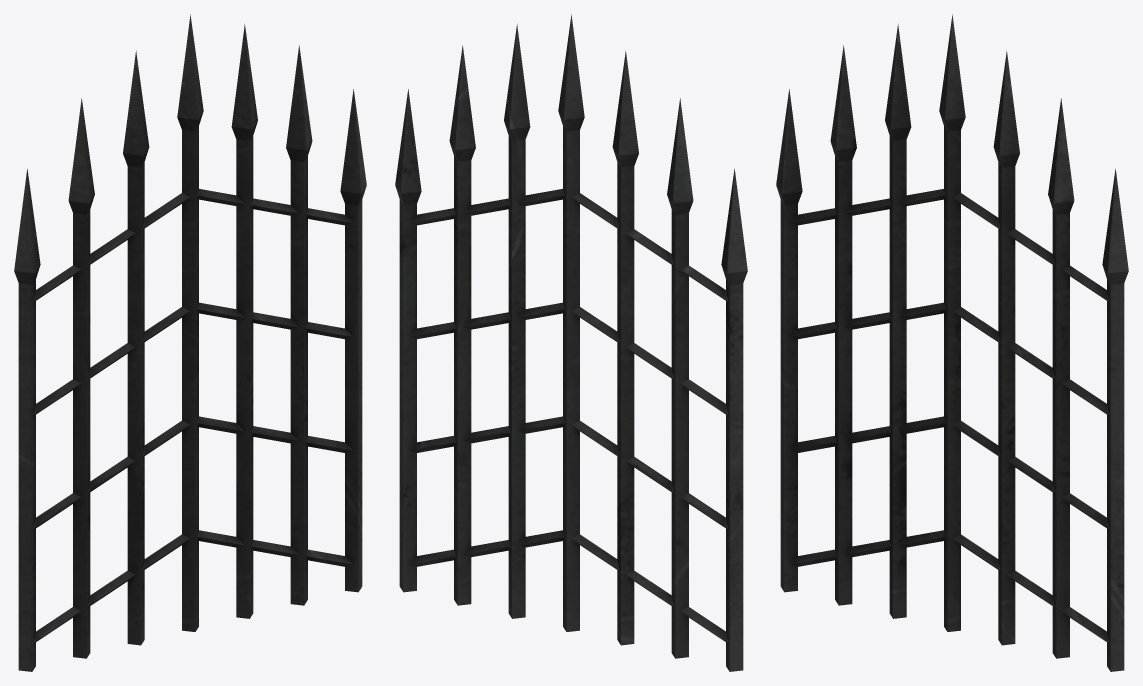
The model's file is Dungeon_Door.fbx.
The picture shows the model from 3 angles, left to right: view 1: azimuth 30°, elevation 25°; view 2: azimuth 150°, elevation 25°; view 3: azimuth 330°, elevation 25°; orthographic projection.
Parts seen in each view (by area): view 1: door; view 2: door; view 3: door.
Boxes of the visible parts, x1=… form: door: x1=14, y1=14, x2=366, y2=671; door: x1=395, y1=14, x2=747, y2=671; door: x1=776, y1=14, x2=1128, y2=671.
Size of the model in its own units: 162 by 270 by 12.17.
1 material, 1 textured.
